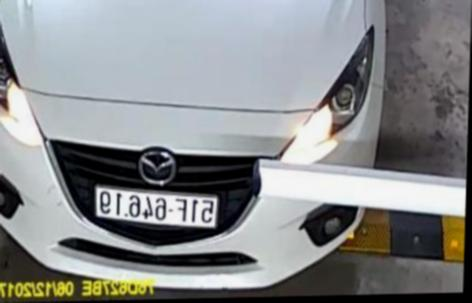License_Plate: (92, 185, 224, 236)
